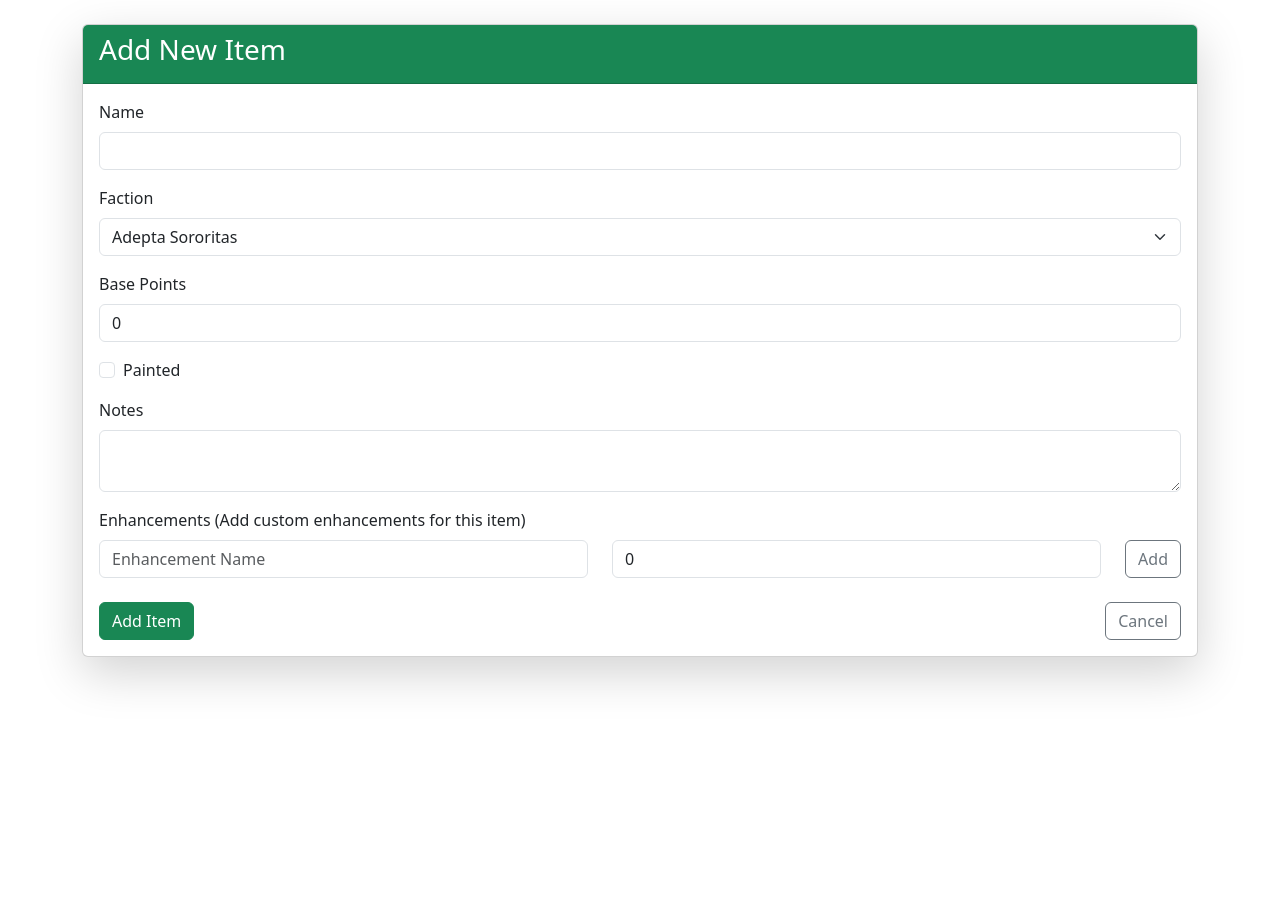
Test case: AddItemForm › handles numeric input correctly
The width and height of the screenshot is (1280, 900).
Note: Test with valid number
Replace the text in the number field labelled "Base Points" with "150" at x=640, y=323, box [99,304,1181,342]
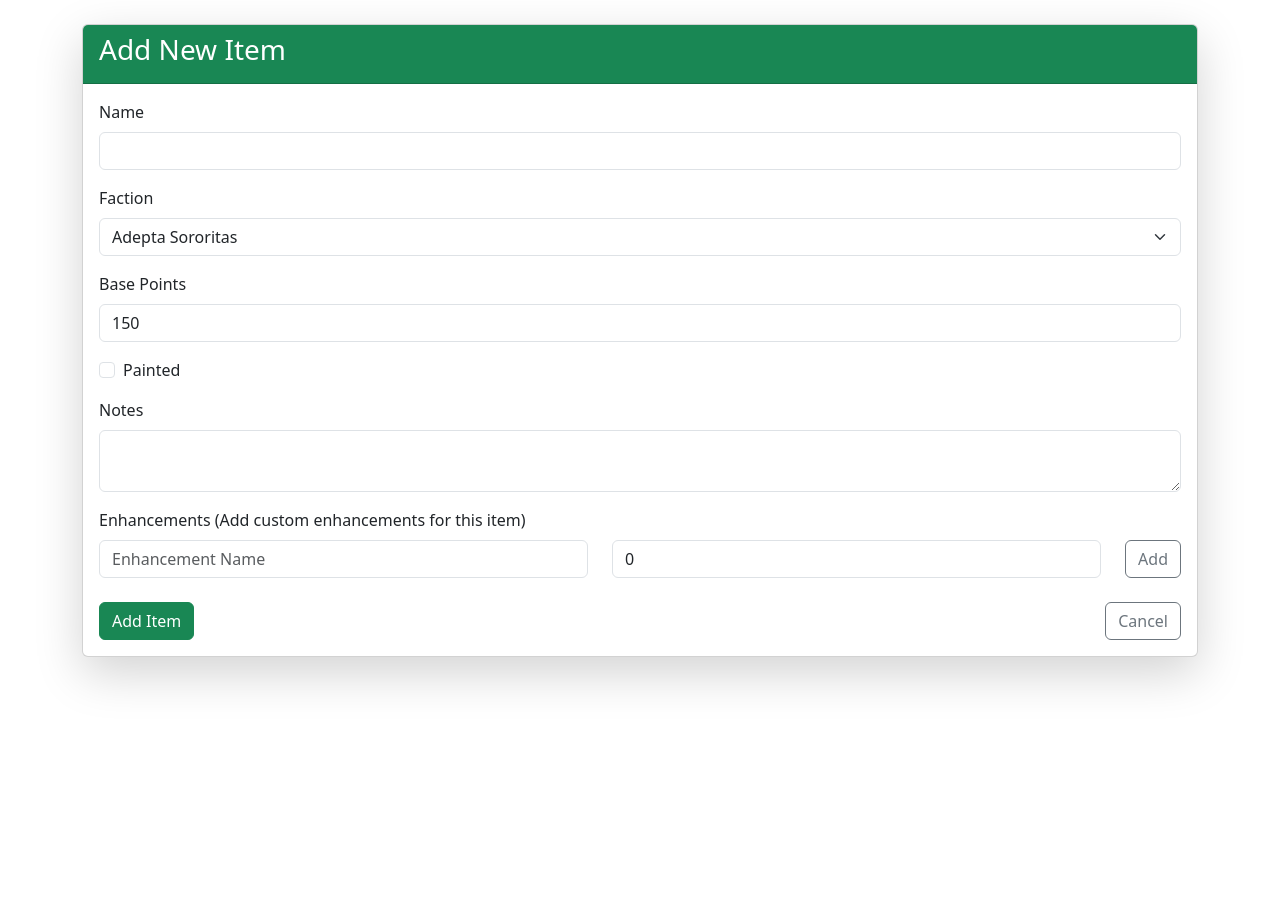
Note: Test with invalid input (should default to 0)
Replace the text in the number field labelled "Base Points" with "abc" at x=640, y=323, box [99,304,1181,342]
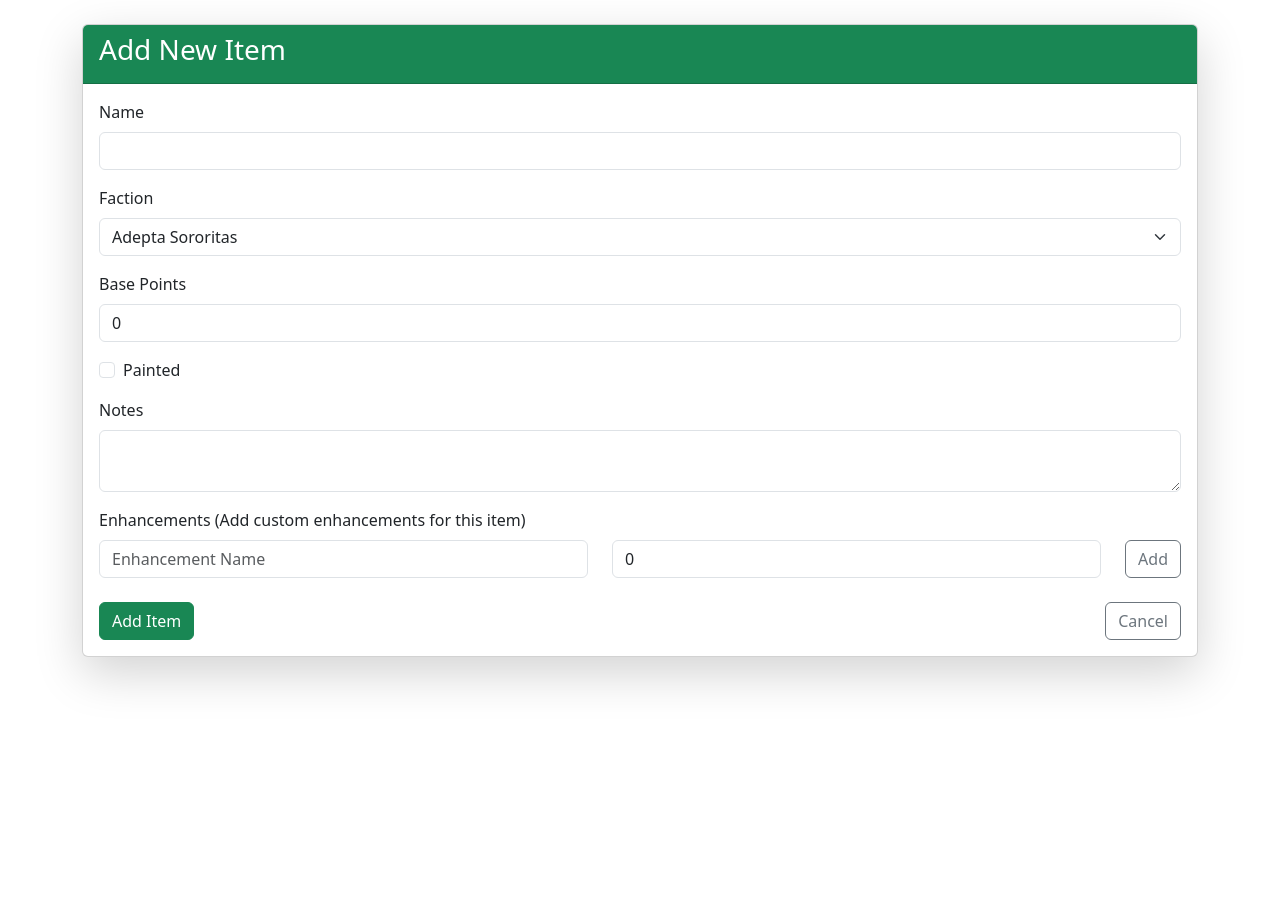
Result: the number field labelled "Base Points" holds "0" at [99,304,1181,342]
